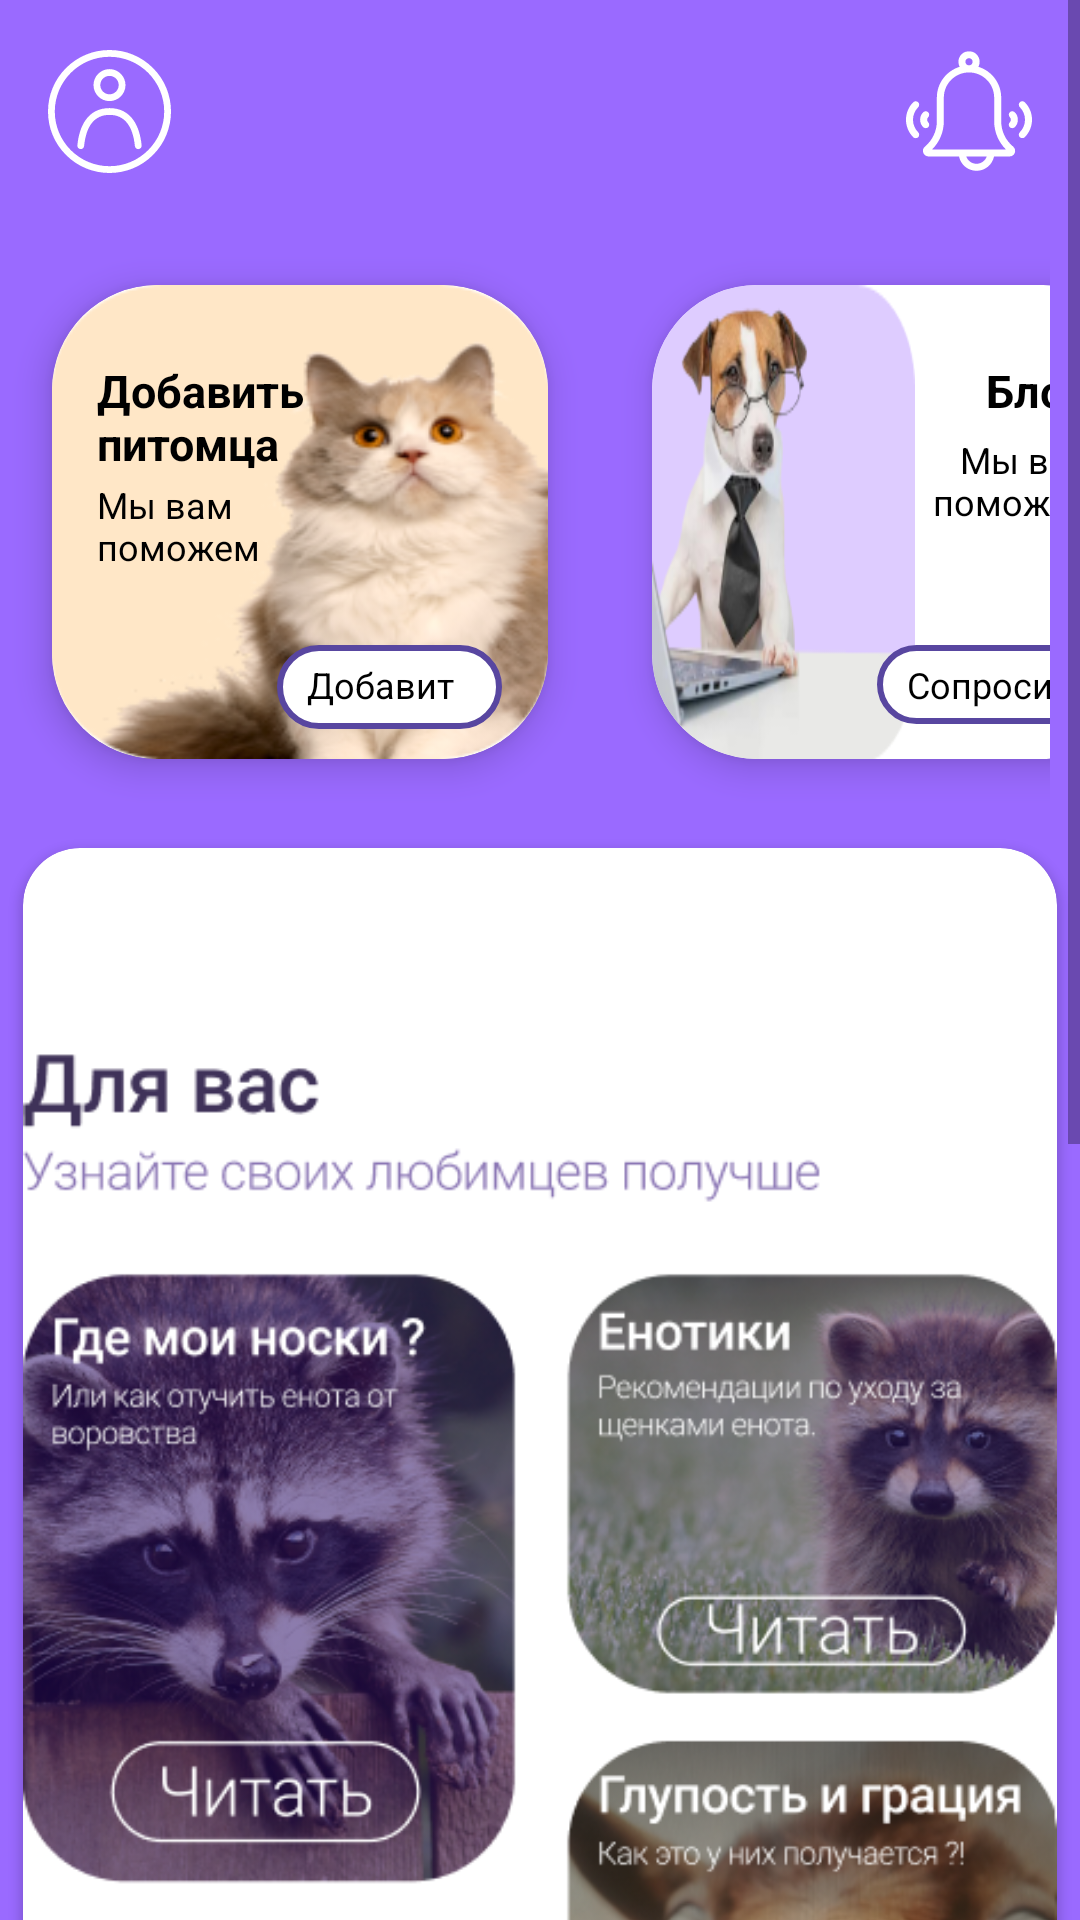

Point at icon controls on the screen. Image size 1080*1920, points as (x,y).
kolokol: (969,111)
profile: (109,111)
